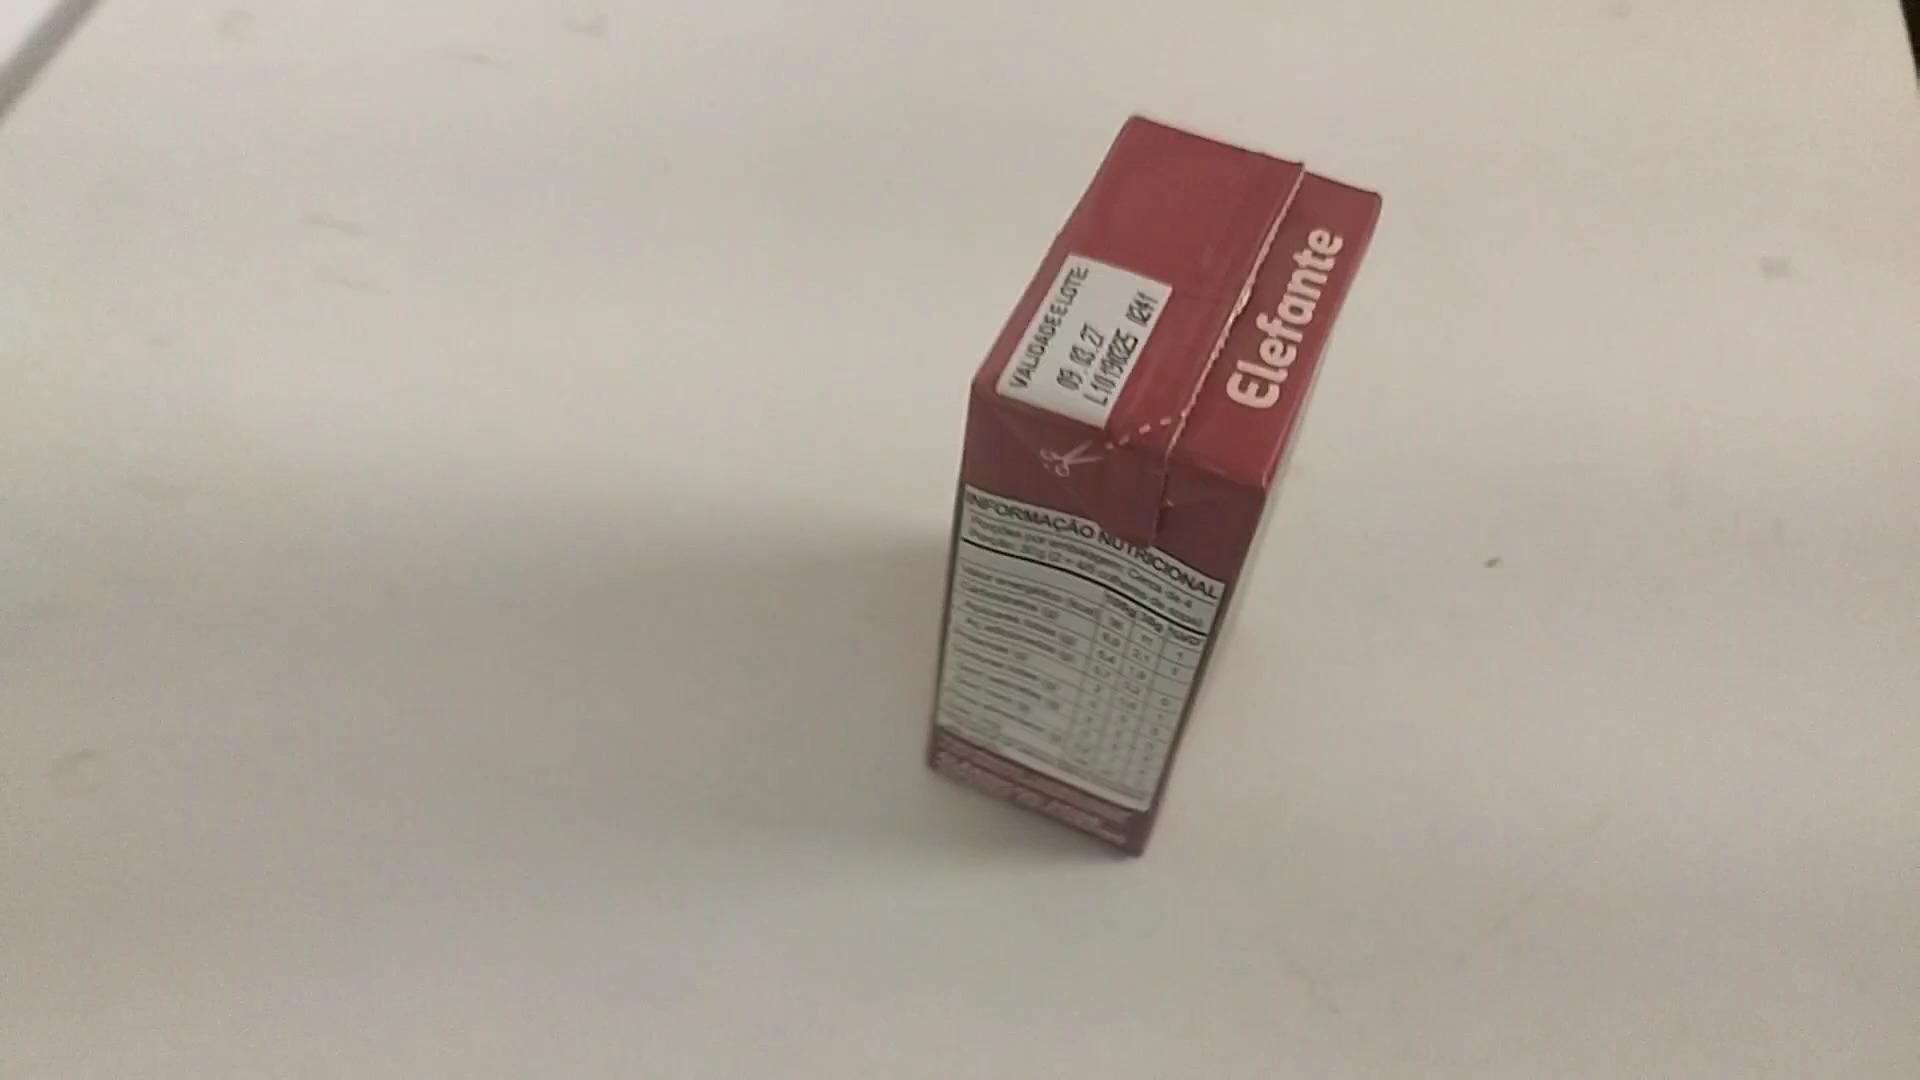tomate: (903, 94, 1403, 862)
